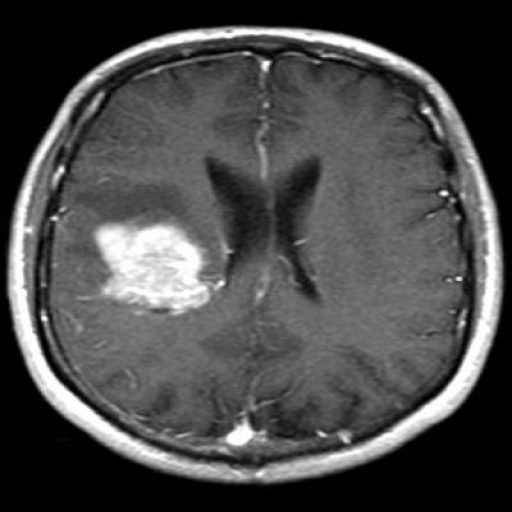tumor: (91, 213, 215, 317)
